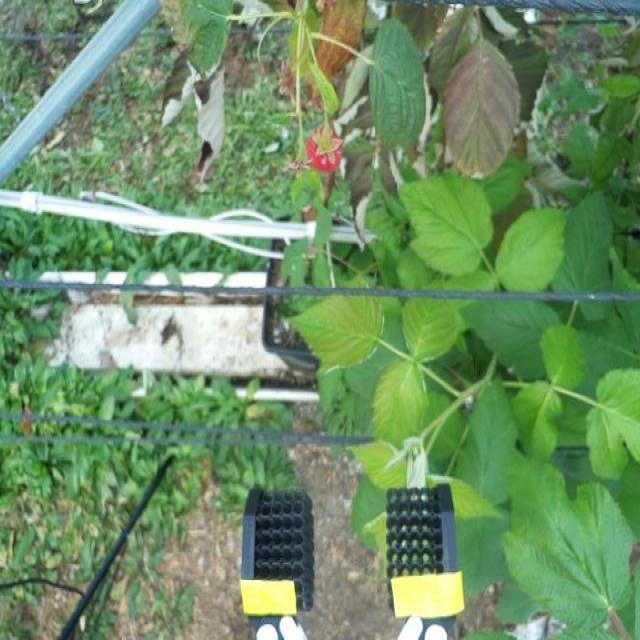Riped berries: (303, 122, 345, 174)
